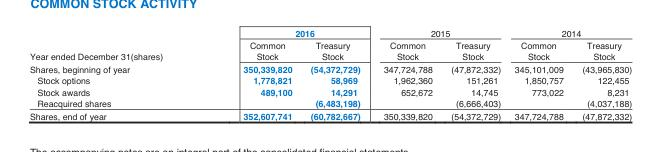table: (28, 28, 631, 120)
table column: (28, 28, 202, 120), (202, 28, 300, 120), (300, 28, 371, 120), (371, 28, 441, 120), (441, 28, 507, 120), (507, 28, 572, 120), (572, 28, 631, 120)
table column header: (28, 28, 631, 63)
table row: (28, 39, 631, 63), (28, 63, 631, 75), (28, 86, 631, 98), (28, 98, 631, 110), (28, 28, 631, 39), (28, 75, 631, 86), (28, 110, 631, 120)
table spanning cell: (28, 28, 202, 63), (202, 28, 371, 39), (371, 28, 507, 39), (507, 28, 631, 39)
